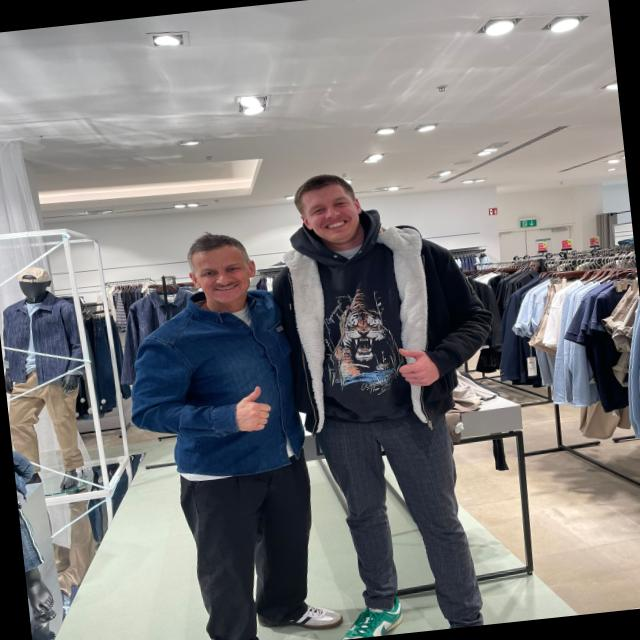JeremiasDiaz: (291, 171, 370, 248)
face: (184, 232, 260, 308)
